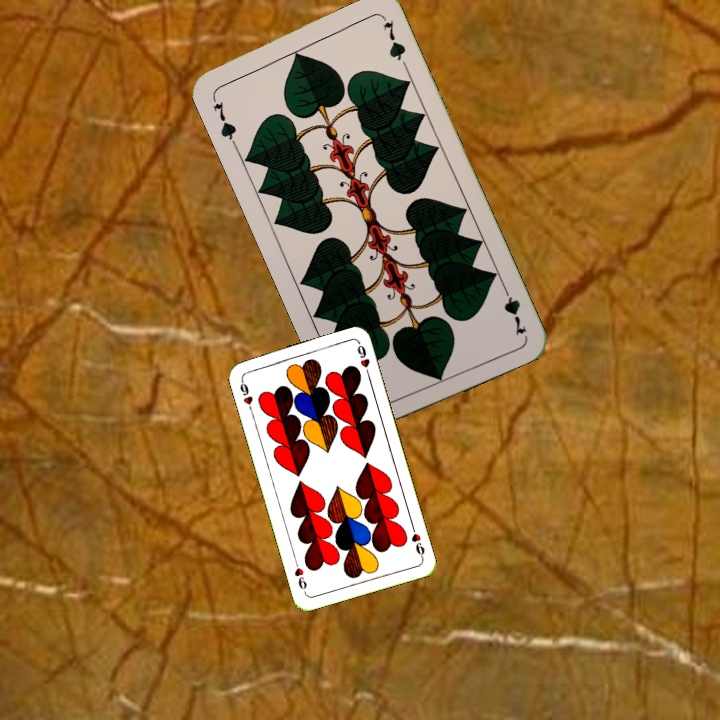G7: (498, 280, 530, 338), (208, 91, 239, 148)
H9: (407, 521, 427, 561), (236, 375, 255, 415)
